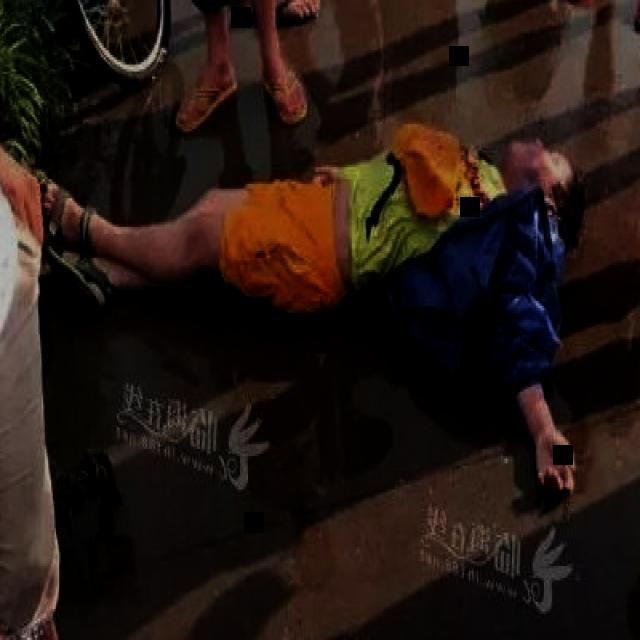Fall-Detected: (38, 79, 620, 513)
